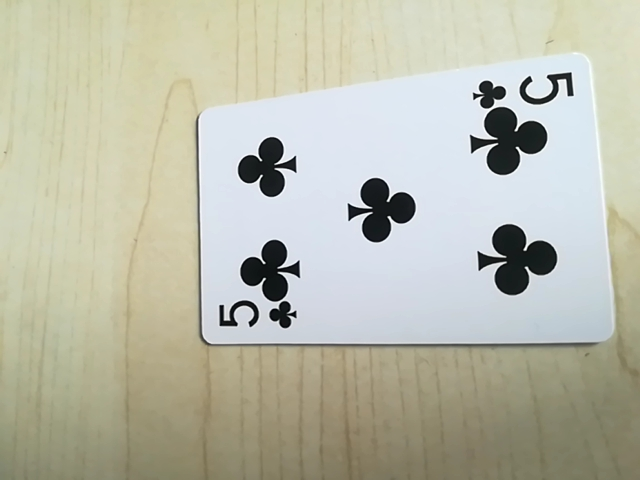mh 5: (469, 67, 576, 110), (213, 295, 298, 336)
